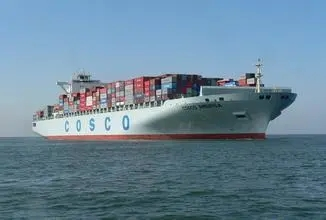Cargoship: (26, 51, 299, 141)
